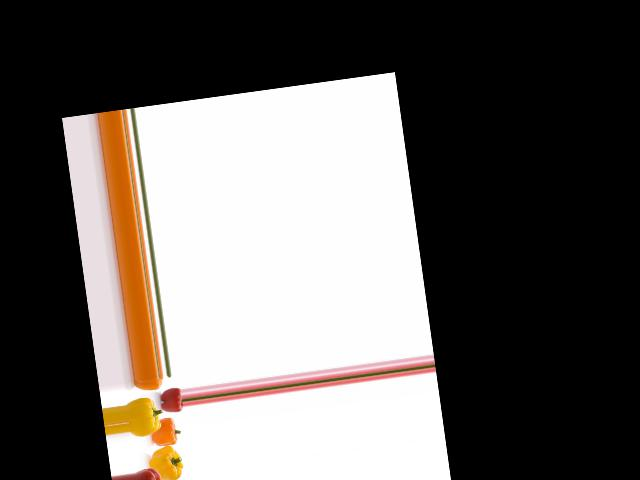bell_pepper: (133, 375, 166, 394)
